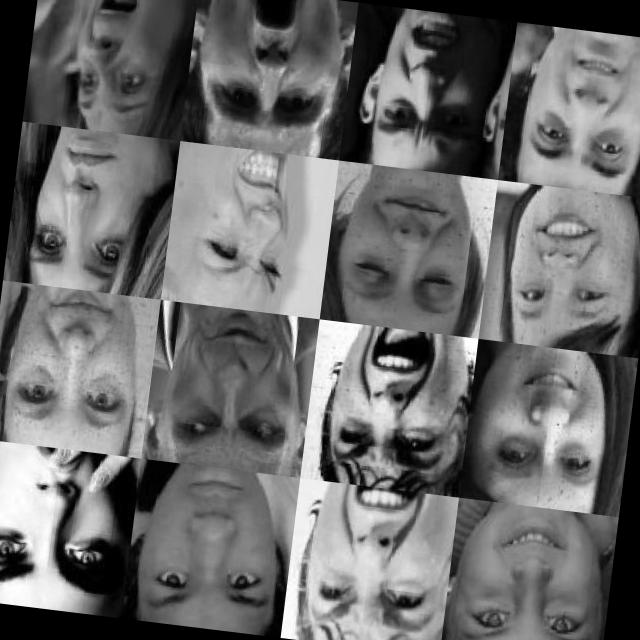angry: (158, 306, 308, 468), (0, 442, 139, 611), (368, 6, 494, 160)
fear: (316, 323, 468, 486), (194, 0, 352, 153), (300, 485, 451, 640), (64, 0, 177, 130)
happy: (334, 177, 484, 329), (476, 345, 618, 504), (2, 288, 147, 439), (450, 508, 609, 640), (492, 192, 628, 341), (190, 147, 304, 300)
neutral: (16, 128, 155, 294), (517, 34, 640, 192)
sad: (137, 467, 288, 628)
